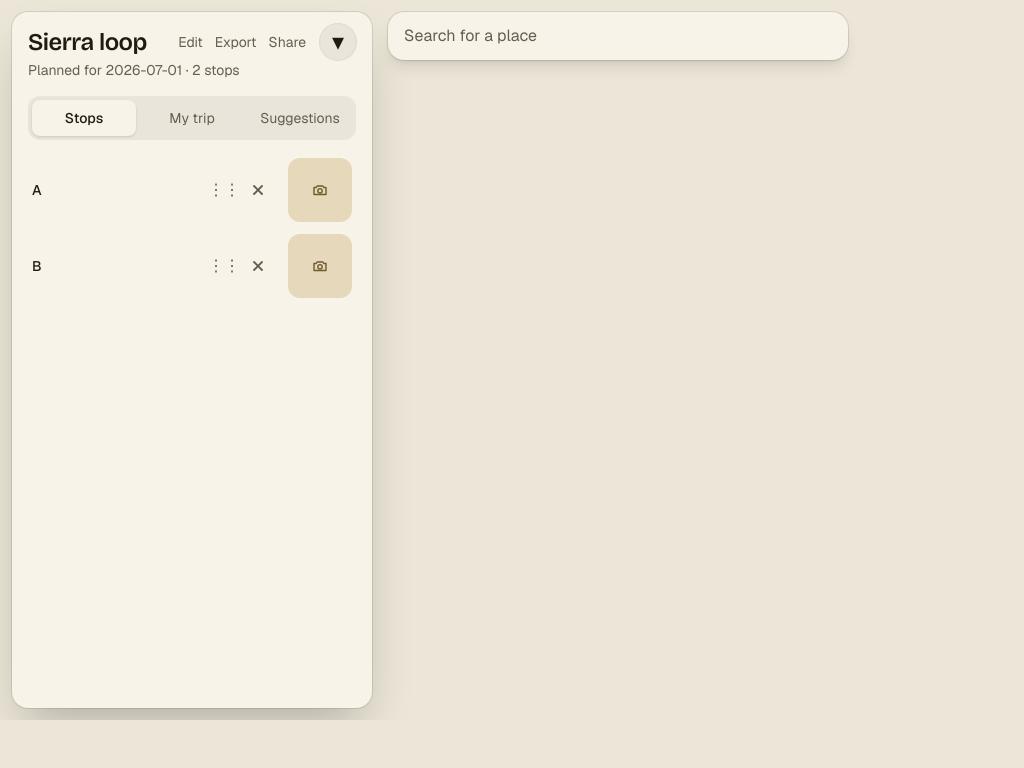
it: TripEditor › keeps an unsaved Start time edit when switching tabs
Click the tab "My trip". click: (192, 118)
box: 140,100 -> 244,136
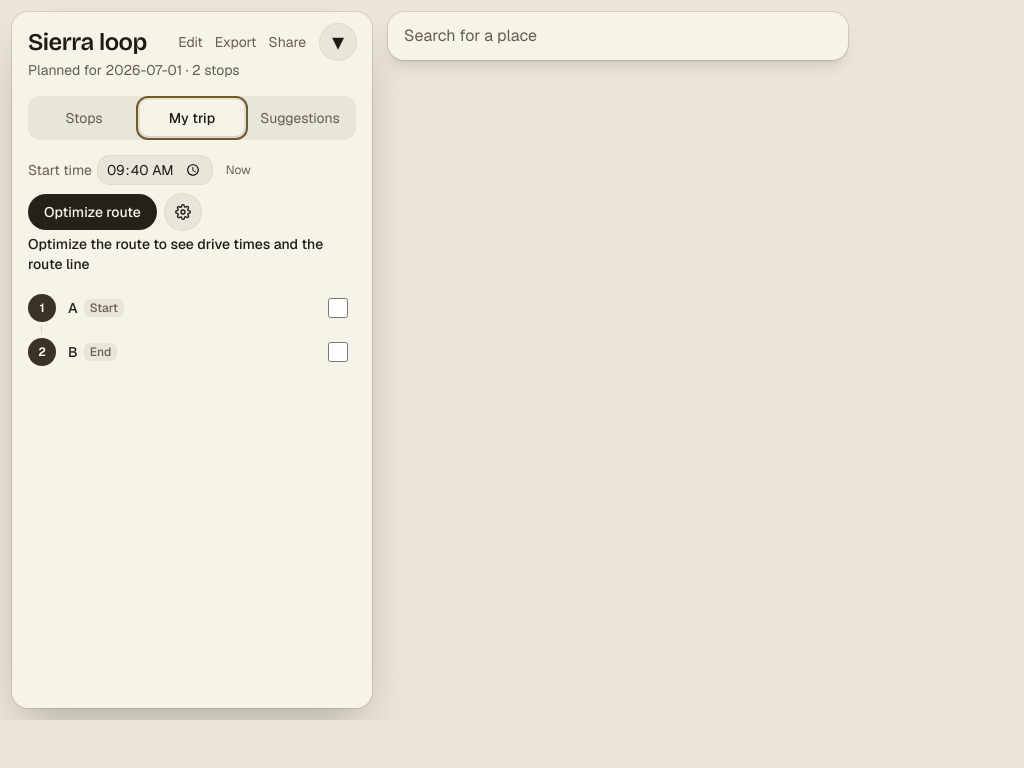
Replace the text in the time field labelled "Start time" with "05:45". click: (155, 170)
box: 98,156 -> 212,184
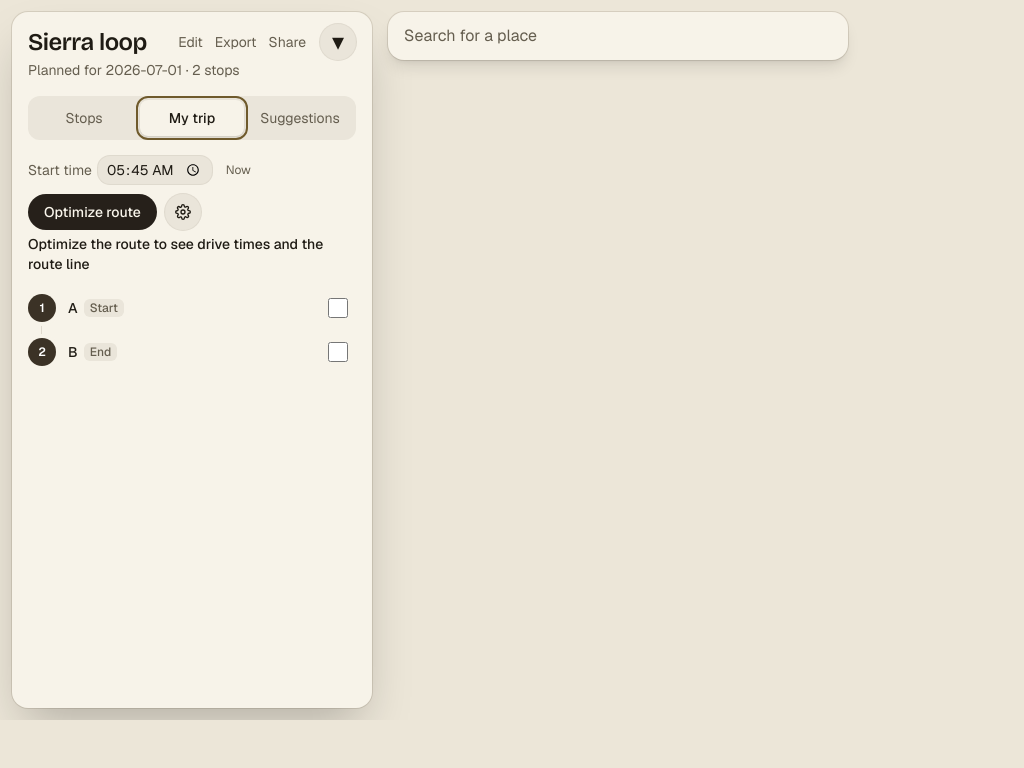
Click the tab "Stops". click: (84, 118)
box: 32,100 -> 136,136
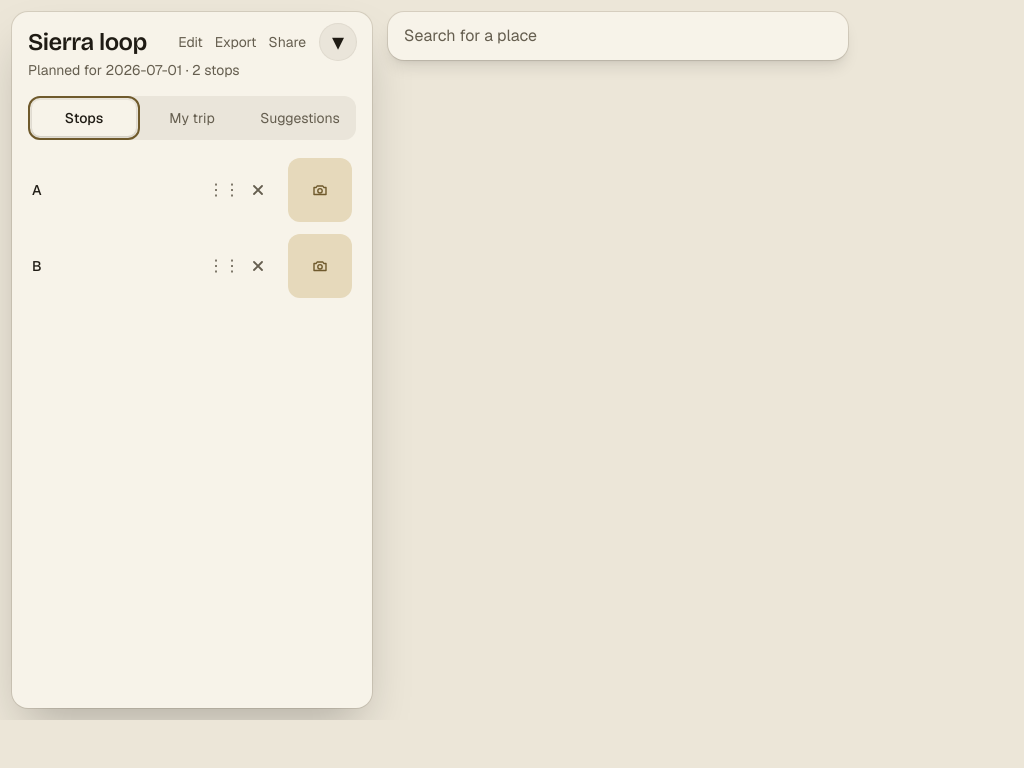
Click the tab "My trip". click: (192, 118)
box: 140,100 -> 244,136
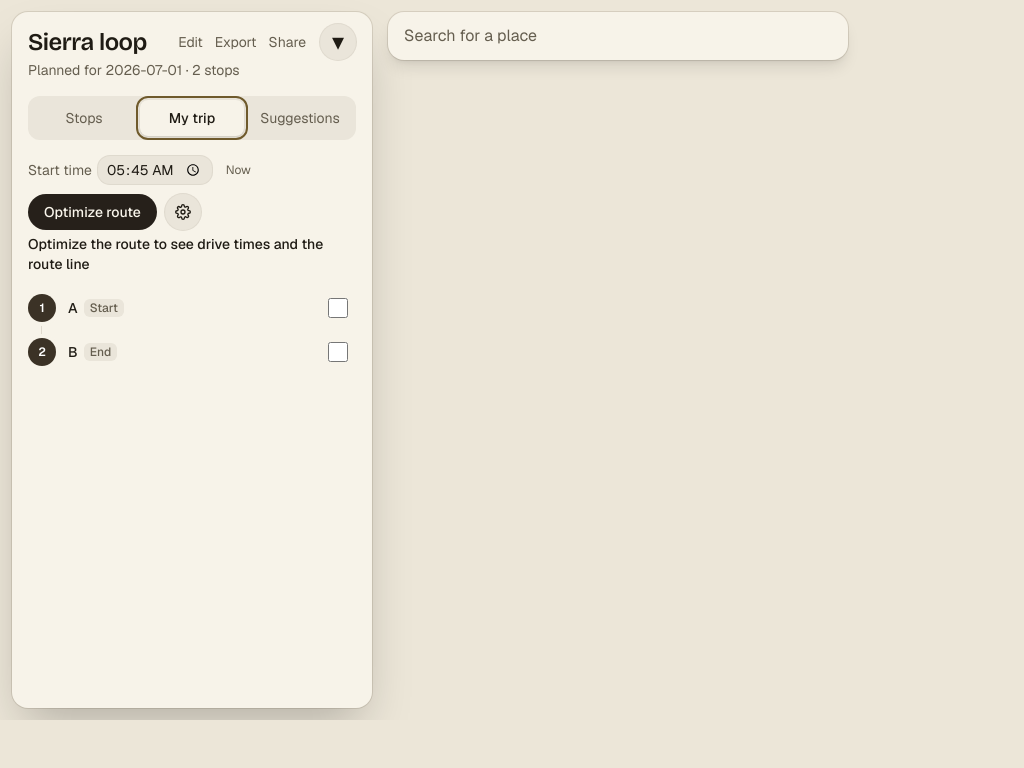
Expected: the time field labelled "Start time" holds "05:45", 98,156 -> 212,184
